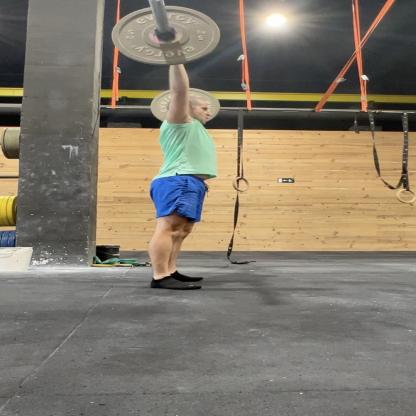barbell: (113, 7, 222, 67)
